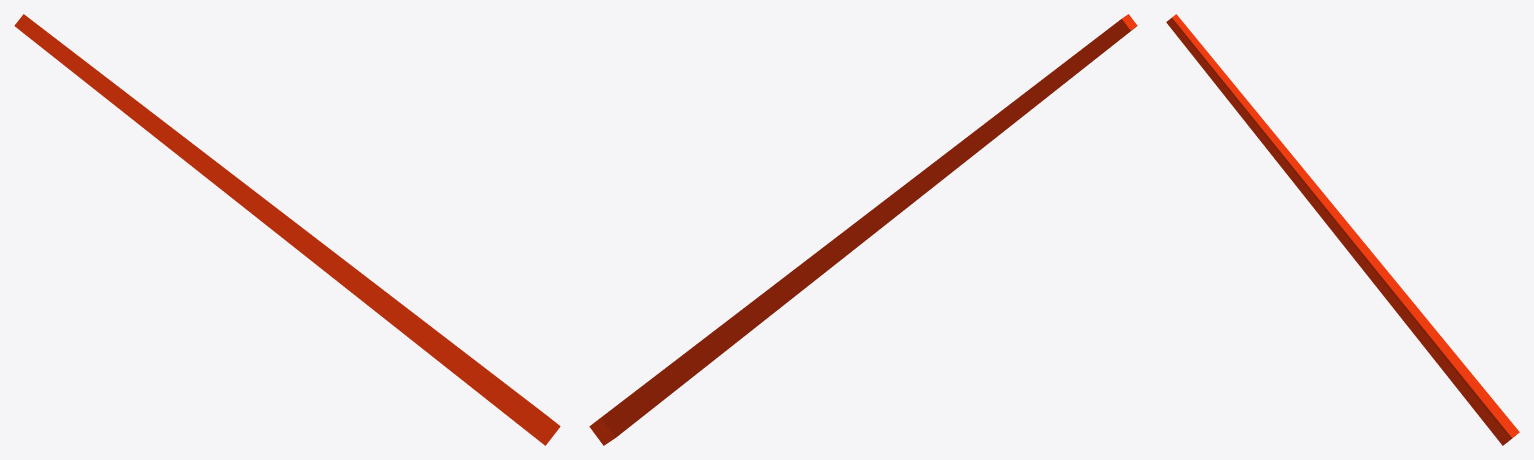
Rendered from Event_420604493_EBrechit_27.fbx.
3 renders of one model, left to right at view 1: azimuth 30°, elevation 25°; view 2: azimuth 150°, elevation 25°; view 3: azimuth 330°, elevation 25°, orthographic. The views are drawn at different scales.
Parts seen in each view (by area): view 1: Model; view 2: Model; view 3: Model.
Part boxes in pixels (bbox=[...]): Model: bbox=[14, 14, 560, 445]; Model: bbox=[589, 14, 1137, 445]; Model: bbox=[1166, 14, 1519, 445].
Bounding box in the file's own units: 2.44 × 2.39 × 0.1362.
